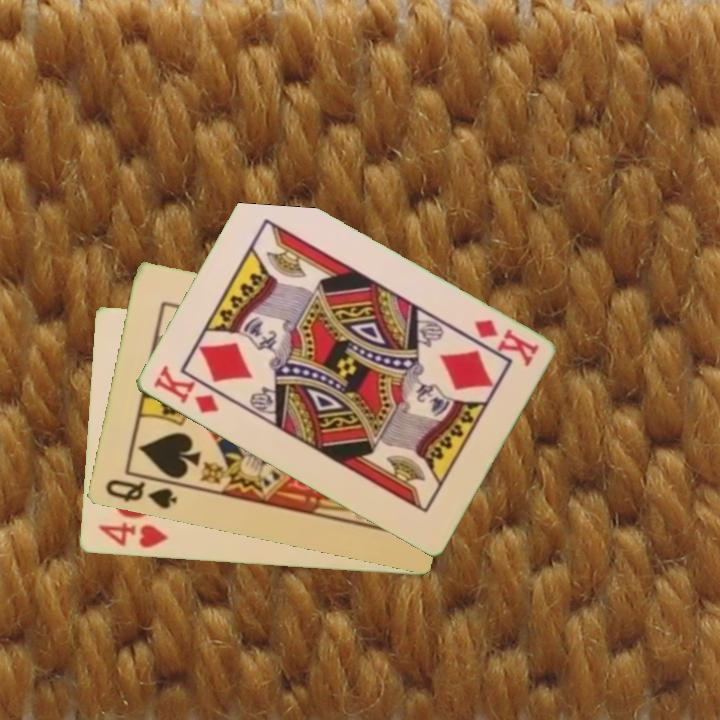4h: (95, 519, 170, 551)
Kd: (149, 362, 222, 417), (470, 316, 542, 370)
Qs: (101, 476, 180, 513)
